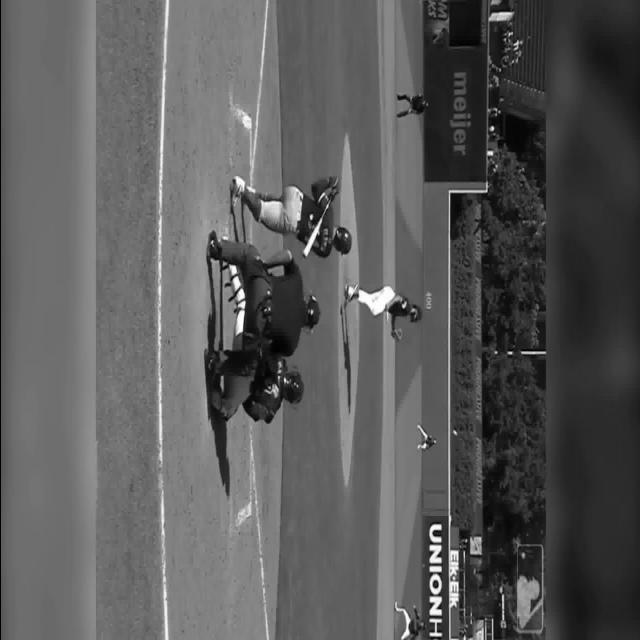baseball: (452, 428, 457, 436)
baseball_glove: (390, 327, 402, 341)
bat: (301, 184, 339, 258)
shoe: (210, 388, 230, 421), (230, 175, 244, 207), (206, 230, 220, 260), (204, 348, 218, 372), (344, 282, 358, 302), (210, 388, 222, 411), (344, 283, 351, 299)
